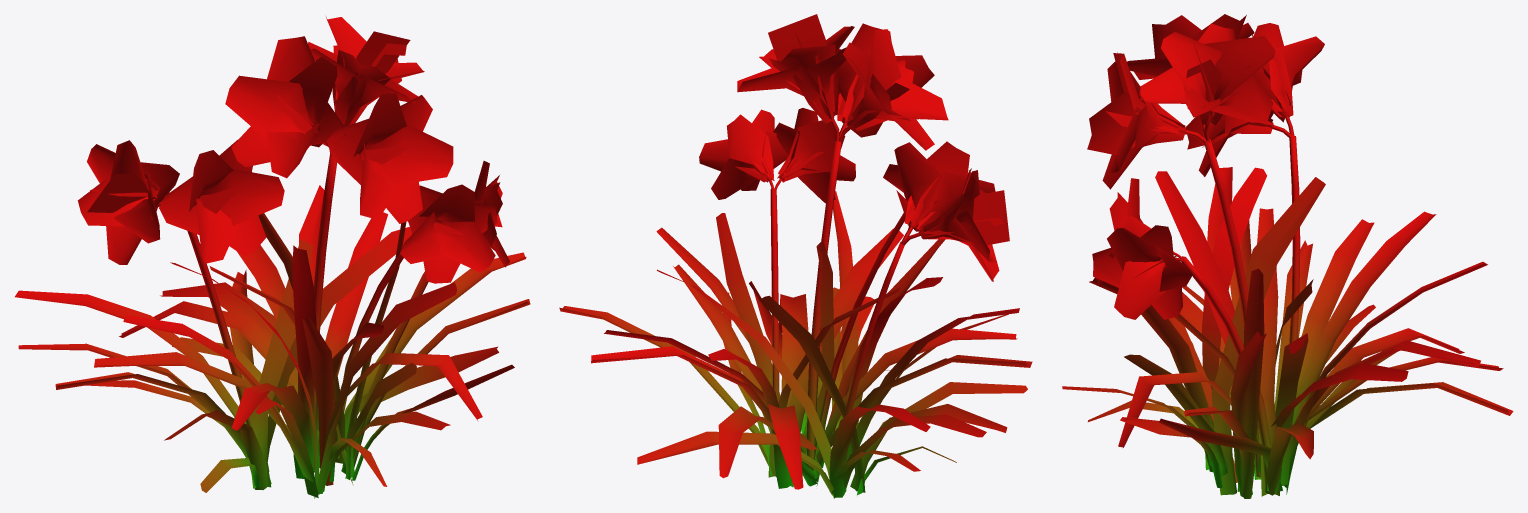
File: Var6_LOD1.fbx
The picture shows the model from 3 angles, left to right: view 1: azimuth 30°, elevation 25°; view 2: azimuth 150°, elevation 25°; view 3: azimuth 270°, elevation 25°; orthographic projection. The views are drawn at different scales.
Visible parts, largest first — view 1: _be13_Var6_LOD1; view 2: _be13_Var6_LOD1; view 3: _be13_Var6_LOD1.
Part boxes in pixels (left/top/right/bottom): _be13_Var6_LOD1: left=15, top=17, right=530, bottom=498; _be13_Var6_LOD1: left=559, top=14, right=1032, bottom=498; _be13_Var6_LOD1: left=1062, top=14, right=1513, bottom=498.
Size of the model in its own units: 102 by 95.33 by 83.98.
